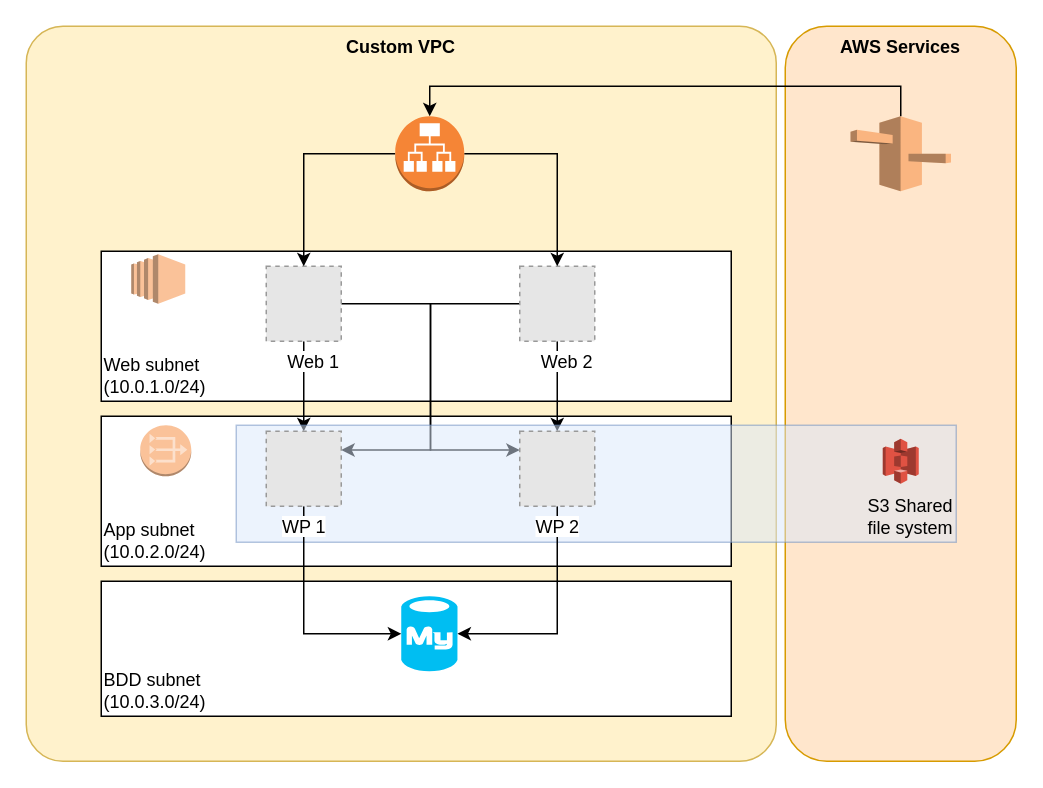
Image size: 1043x788. Some labels were removed from this diagram. Grey dashed boxes stand in for pictures. Here are the shapes that lost their labels. From the top down, the centre of each, then its label:
At [900,153]: "DNS".
At [157,278]: "Bastion host".
At [165,450]: "Nat Instance".
At [428,633]: "BDD".
